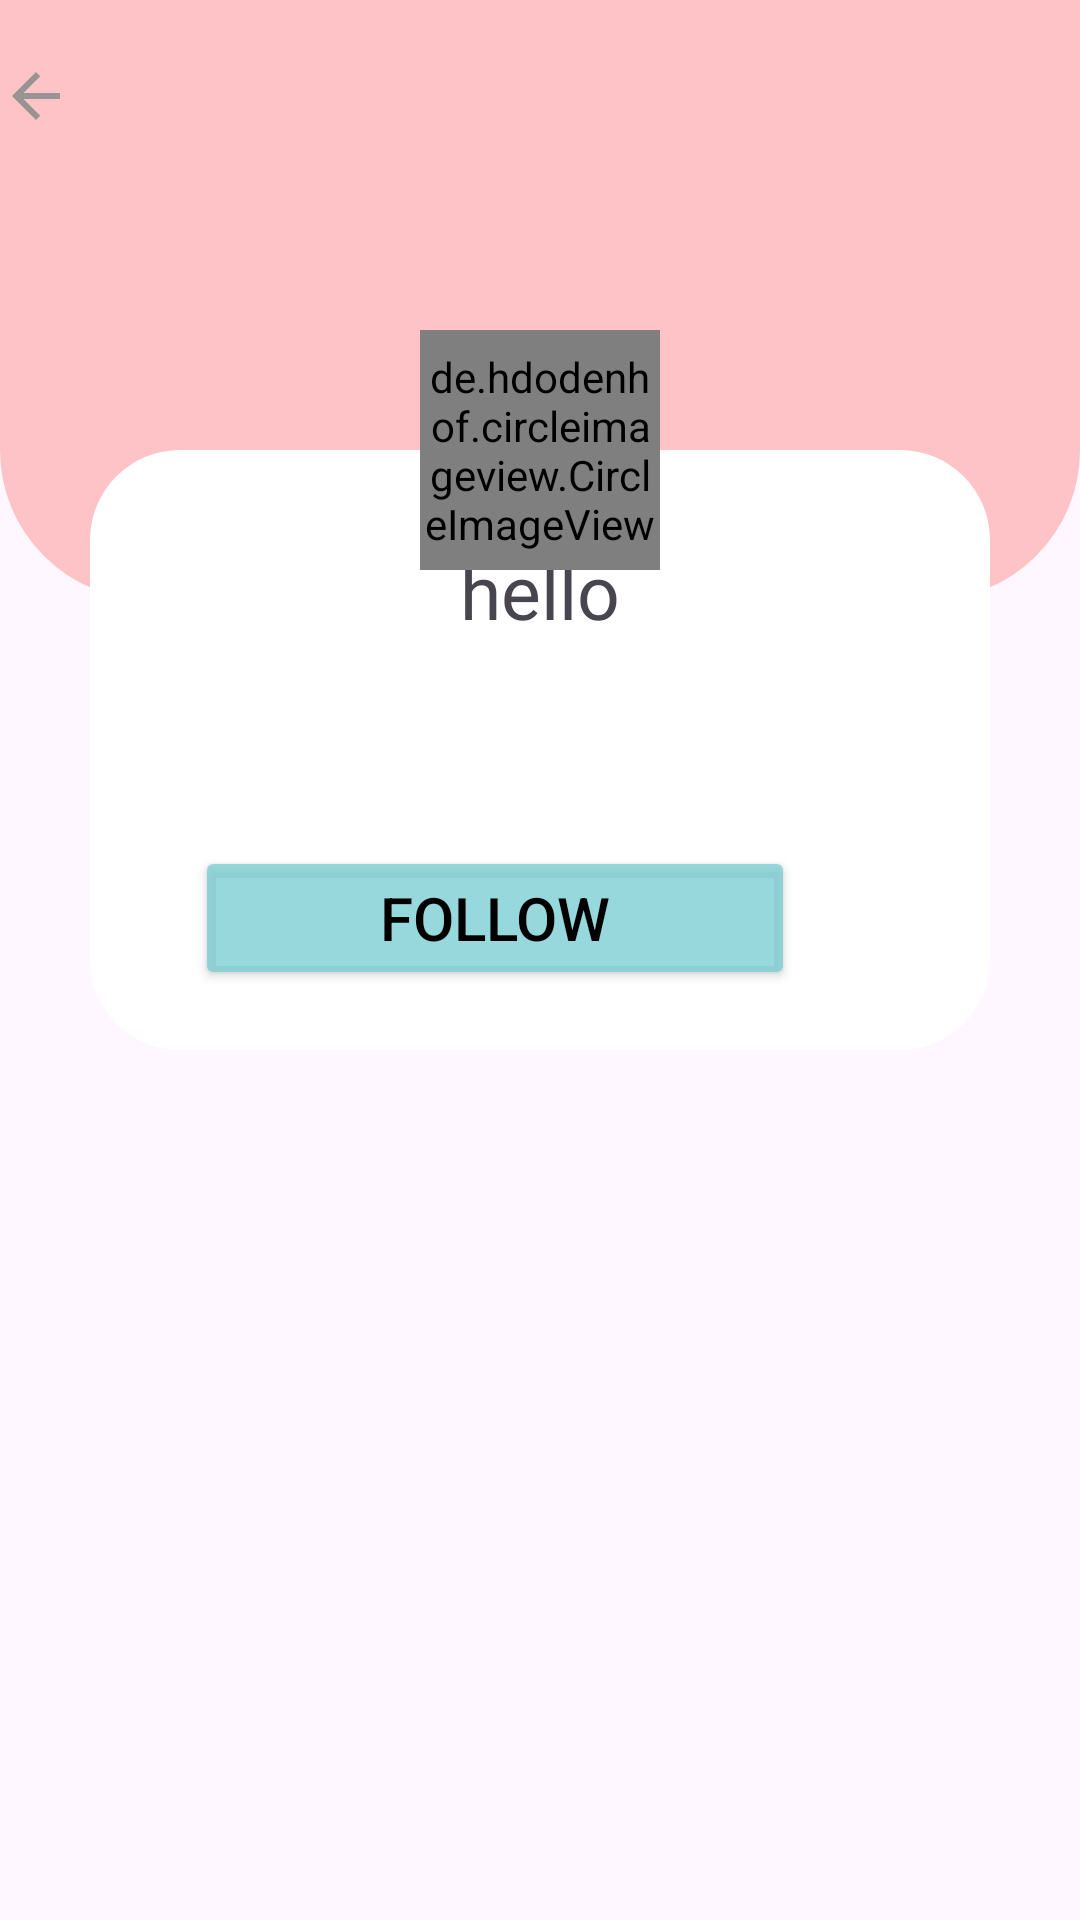

Icons on this 1080px×1920px Android screen, each with the point to tap as (x=x, y=y):
back: (x=36, y=96)
